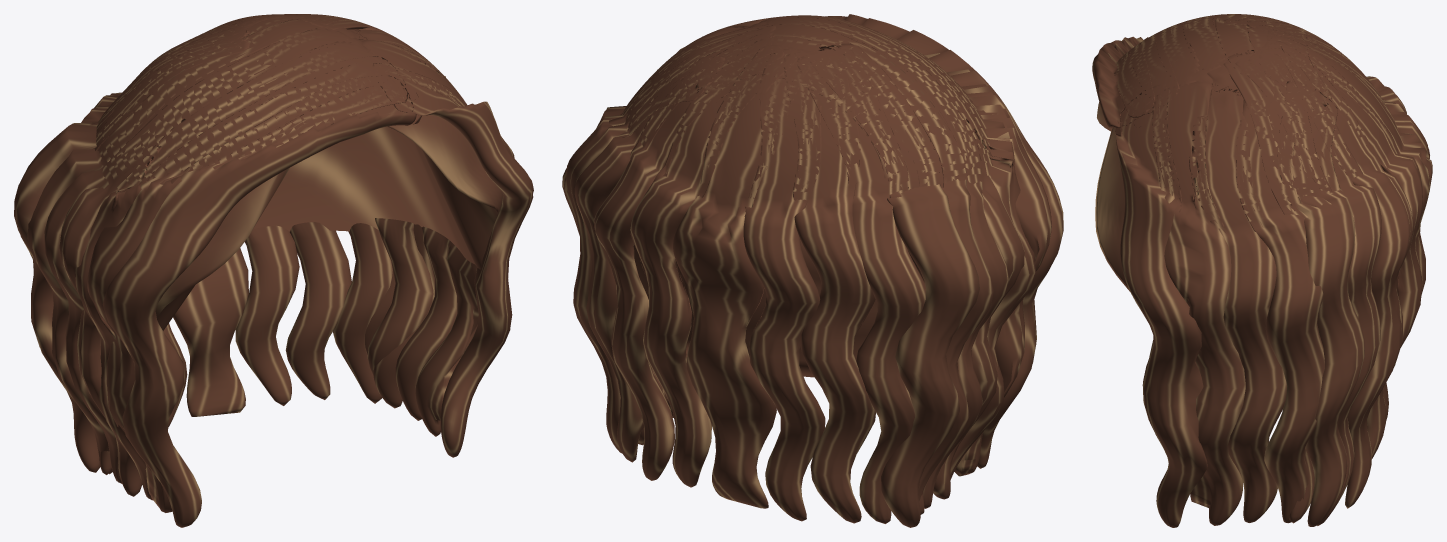
Rendered from Highlights-0ff990406713252-hair.glb.
3 renders of one model, left to right at view 1: azimuth 30°, elevation 25°; view 2: azimuth 150°, elevation 25°; view 3: azimuth 270°, elevation 25°, orthographic. The views are drawn at different scales.
Parts seen in each view (by area): view 1: 226 hair / Hair / sculpted 0.004, 226 hair / Hair / sculpted 1.008, 226 hair / Hair / sculpted 2.004, 226 hair / Hair / sculpted 1.007; view 2: 226 hair / Hair / sculpted 0.004, 226 hair / Hair / sculpted 2.004, 226 hair / Hair / sculpted 1.008, 226 hair / Hair / sculpted 1.007; view 3: 226 hair / Hair / sculpted 1.008, 226 hair / Hair / sculpted 2.004, 226 hair / Hair / sculpted 0.004, 226 hair / Hair / sculpted 1.007.
Part boxes in pixels (left/top/right/bottom): 226 hair / Hair / sculpted 0.004: left=14, top=14, right=457, bottom=527; 226 hair / Hair / sculpted 1.008: left=44, top=14, right=533, bottom=512; 226 hair / Hair / sculpted 2.004: left=27, top=14, right=514, bottom=500; 226 hair / Hair / sculpted 1.007: left=155, top=115, right=503, bottom=330; 226 hair / Hair / sculpted 0.004: left=594, top=14, right=1063, bottom=527; 226 hair / Hair / sculpted 2.004: left=566, top=15, right=1036, bottom=523; 226 hair / Hair / sculpted 1.008: left=562, top=15, right=1051, bottom=523; 226 hair / Hair / sculpted 1.007: left=633, top=239, right=877, bottom=377; 226 hair / Hair / sculpted 1.008: left=1108, top=14, right=1422, bottom=527; 226 hair / Hair / sculpted 2.004: left=1129, top=14, right=1432, bottom=526; 226 hair / Hair / sculpted 0.004: left=1092, top=14, right=1429, bottom=522; 226 hair / Hair / sculpted 1.007: left=1095, top=102, right=1398, bottom=291.
Bounding box in the file's own units: 1.13 × 1.09 × 0.7898.
Materials: 4 (4 with a texture image).
